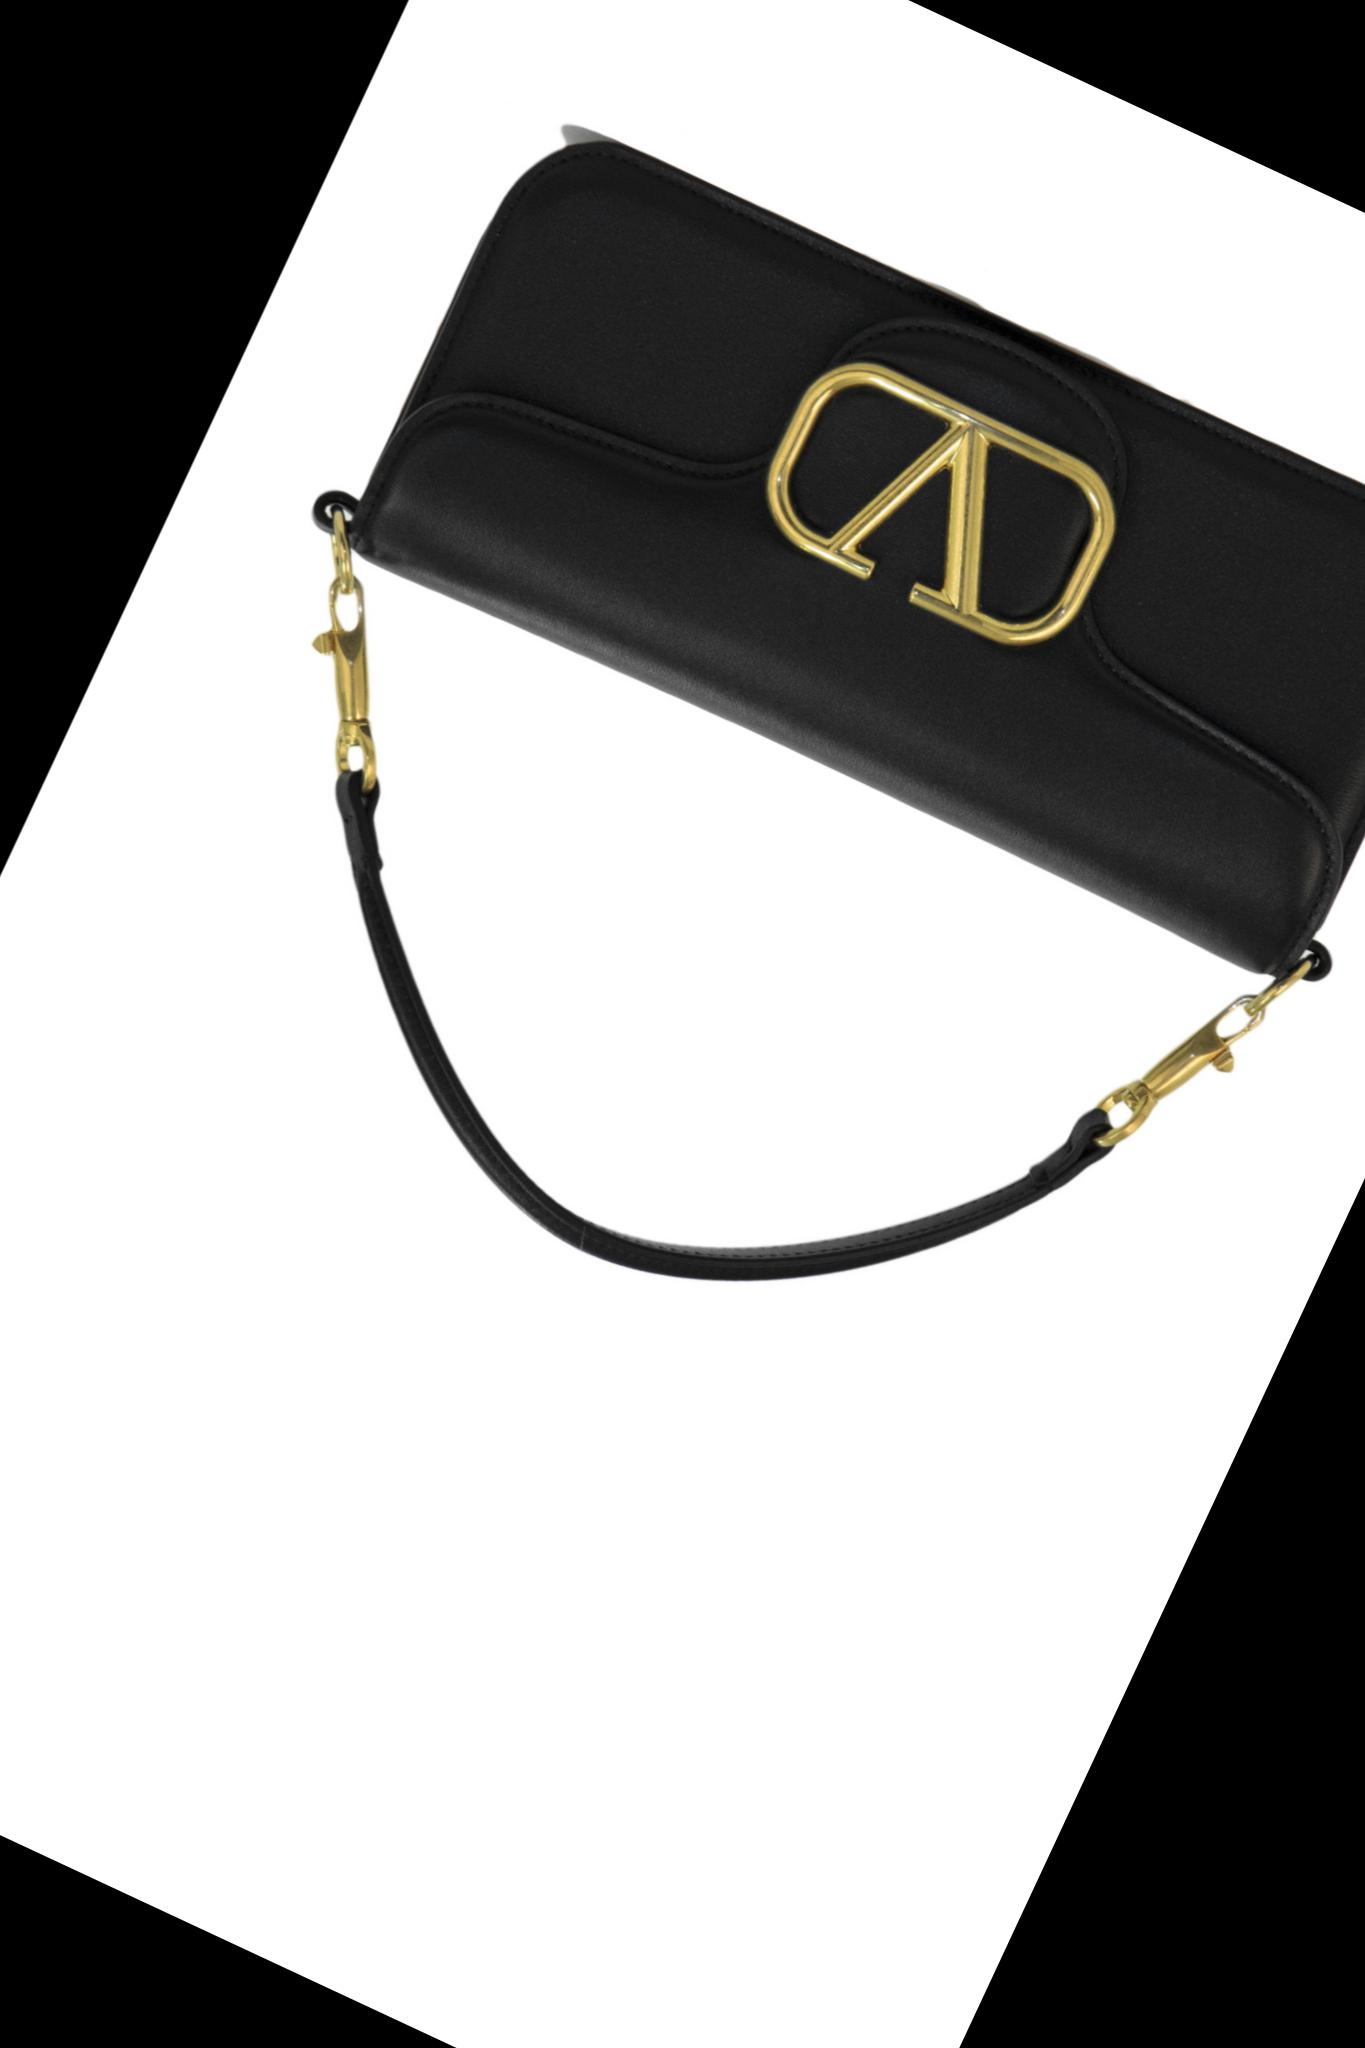VALENTINO: (740, 340, 1136, 668)
